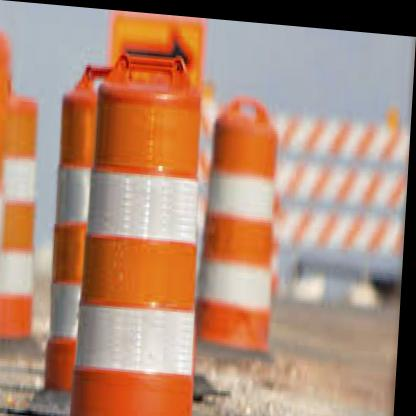obstacle: (71, 48, 213, 416)
